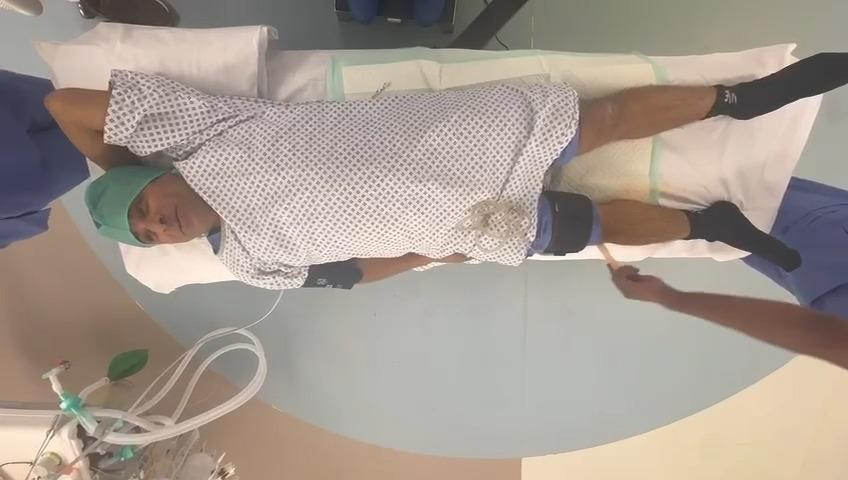patient: (45, 55, 848, 289)
prepstick: (598, 243, 619, 271)
tourniquet: (543, 190, 593, 255)
